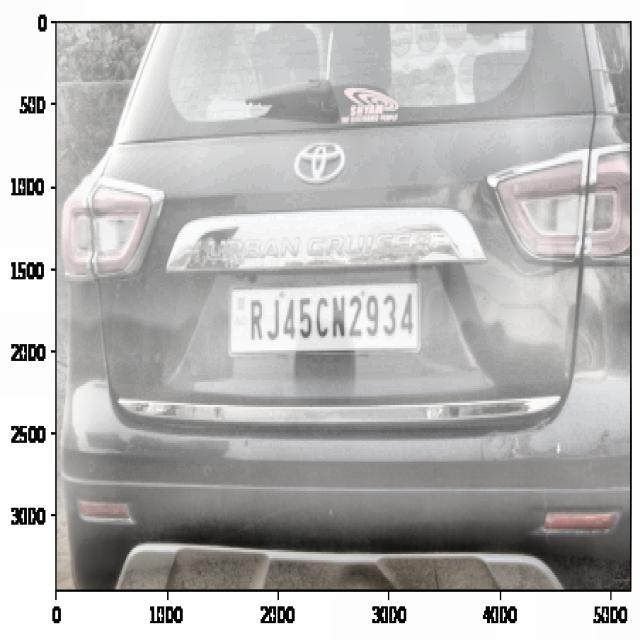license_plate: (243, 287, 422, 351)
